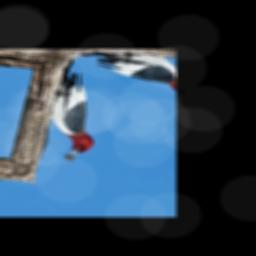Woodpecker: (9, 67, 136, 165)
